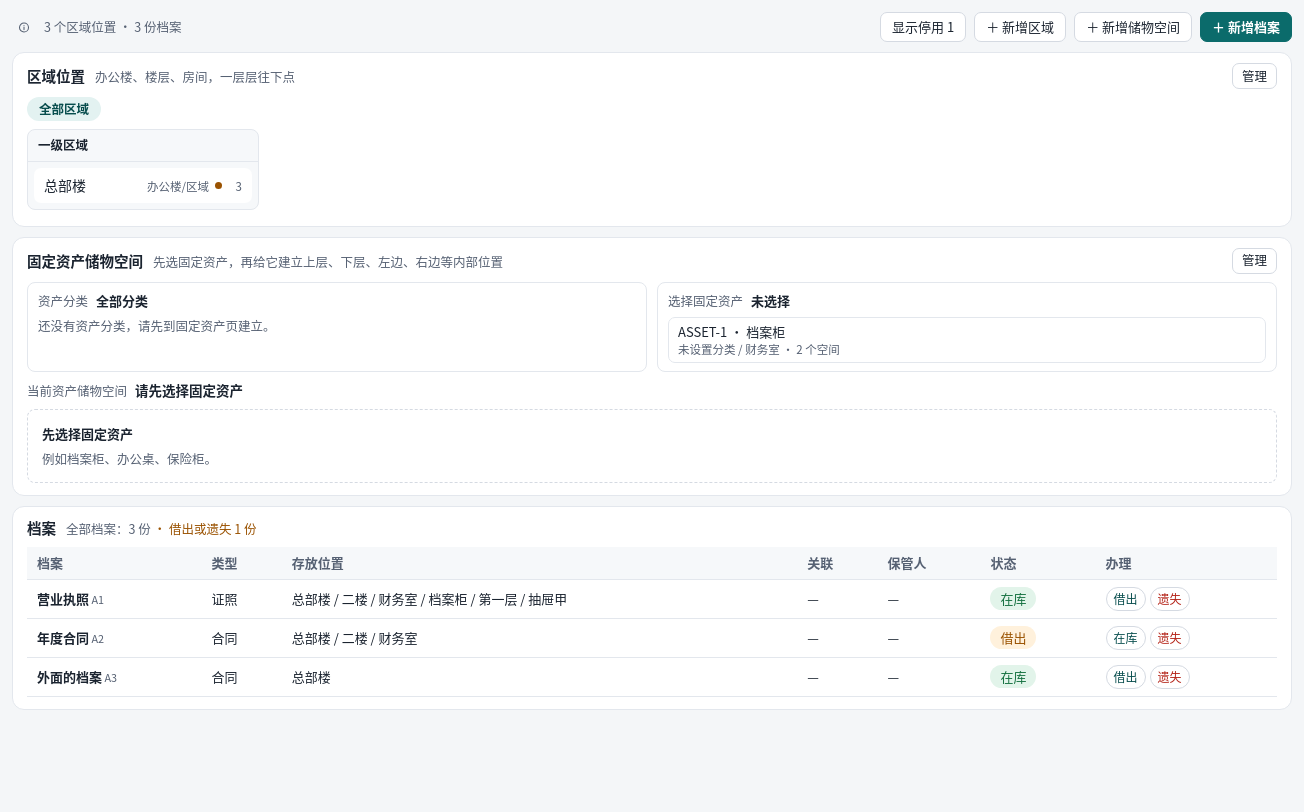
房间与档案位置看板 › 储物空间：先选固定资产，再逐级点开柜层、抽屉；档案跟着走
The width and height of the screenshot is (1304, 812).
Expected: the element "区域位置" is shown, [12,52,1292,227]
Expected: the text "先选择固定资产" is shown, [42,424,133,444]
Click the button "ASSET-1 · 档案柜 未设置分类 / 财务室 · 2 个空间" at (703, 331), box [668,316,1266,363]
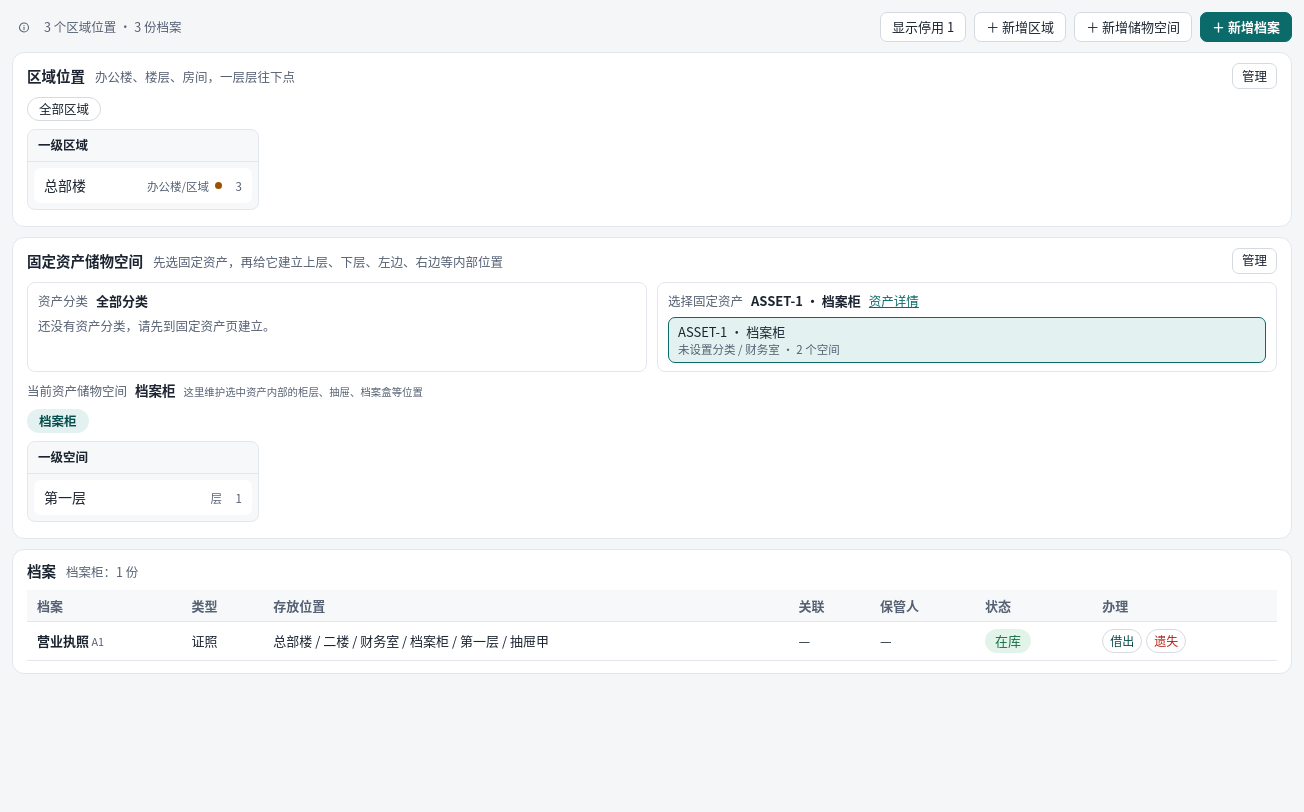
Expected: the element "一级空间" is shown, [27,441,259,522]
Expected: the number of rows is 2, [27,590,1277,622]; [27,622,1277,660]
Click the button "第一层 层 1" at (143, 497), box [35,481,251,514]
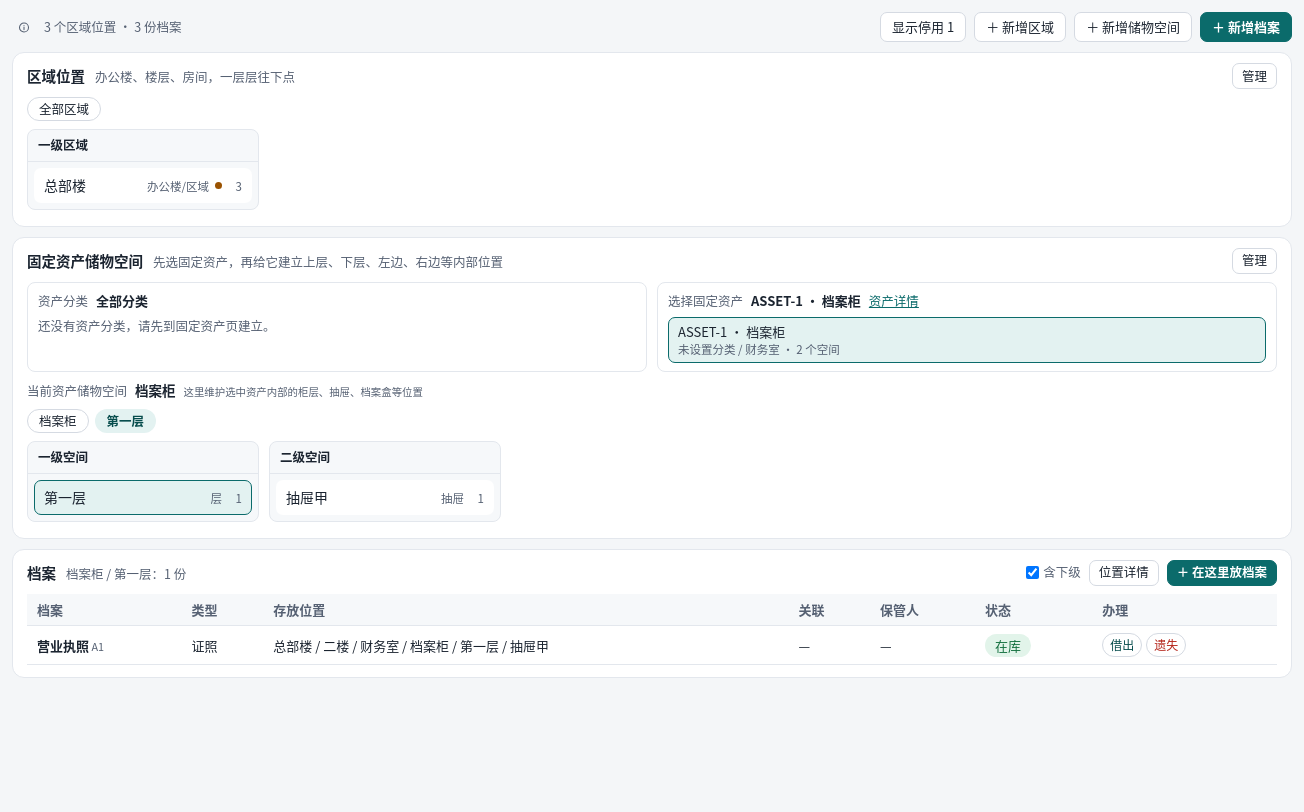
Expected: the element "二级空间" is shown, [269,441,501,522]
Click the button "抽屉甲 抽屉 1" at (385, 497), box [277,481,493,514]
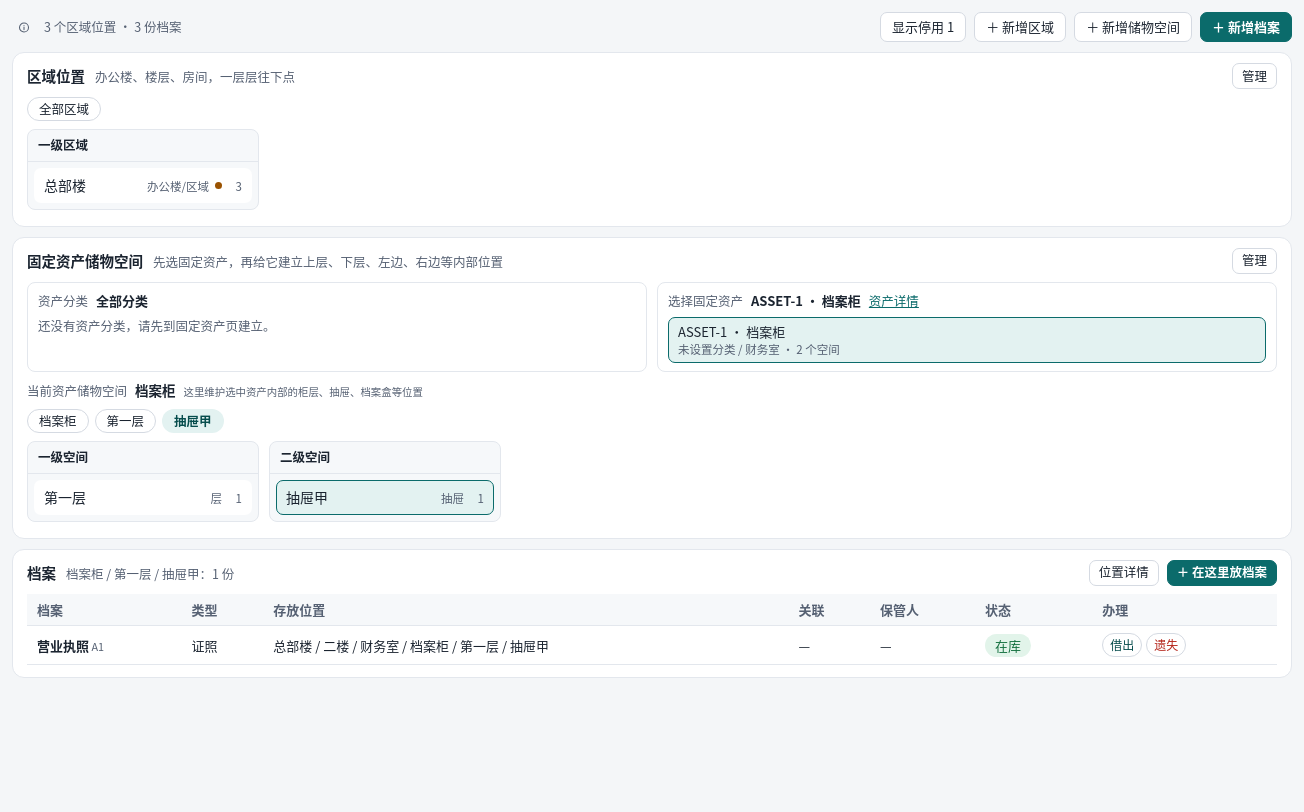
Expected: the text "营业执照" is shown, [37,636,89,654]
Expected: the text "档案柜 / 第一层 / 抽屉甲：1 份" is shown, [66,565,234,584]
